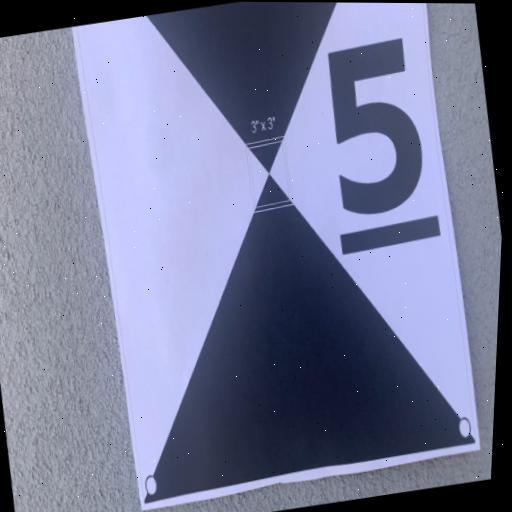target5: (55, 1, 499, 503)
